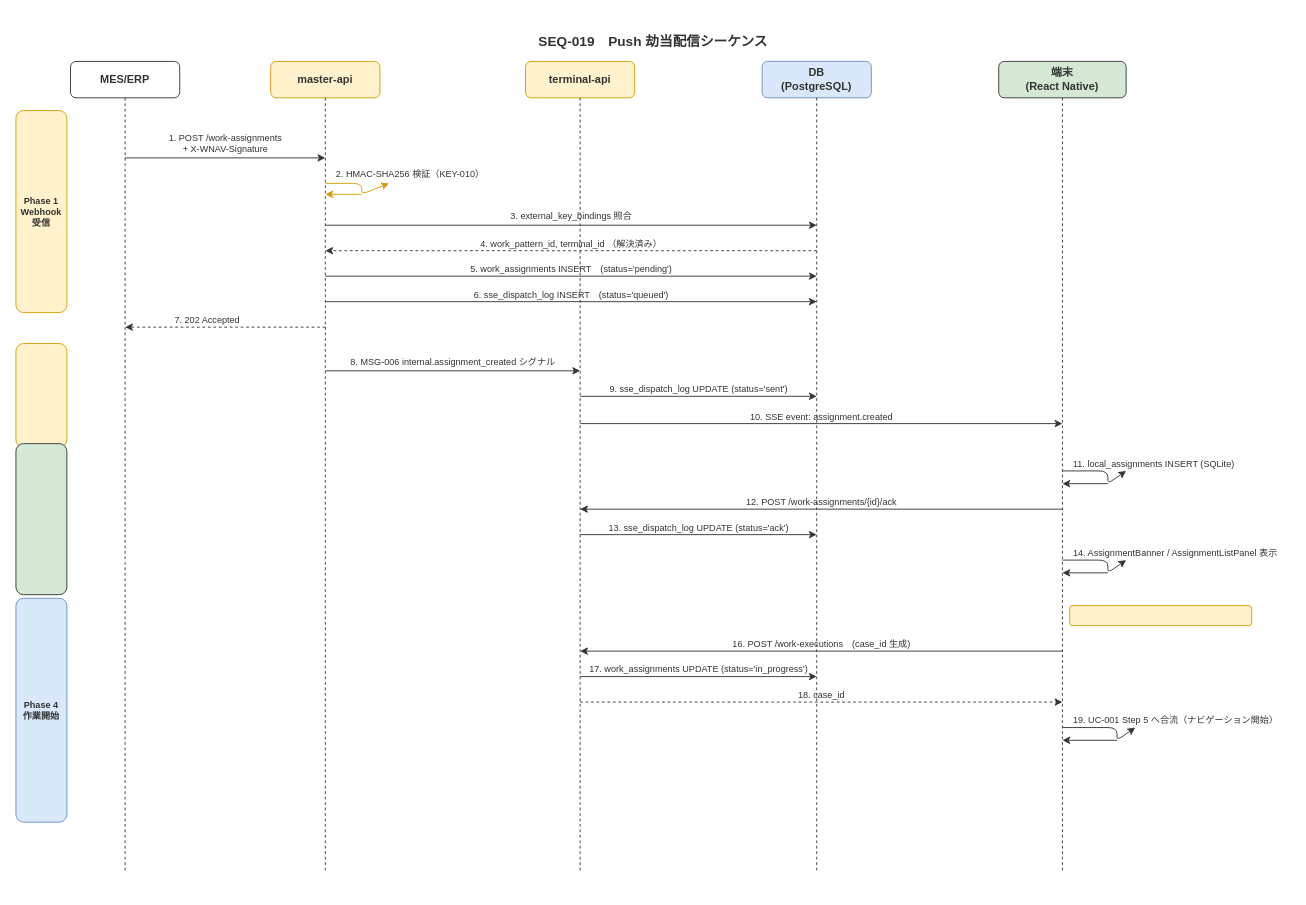
Image size: 1306x905. Some labels were removed from this diagram. Each missing label, with the centre of its shape:
"Phase 2 SSE 配信" goes at (x=41, y=395).
"Phase 3 端末受信・表示" goes at (x=41, y=519).
"作業员：「開始」タップ" goes at (x=1160, y=615).
